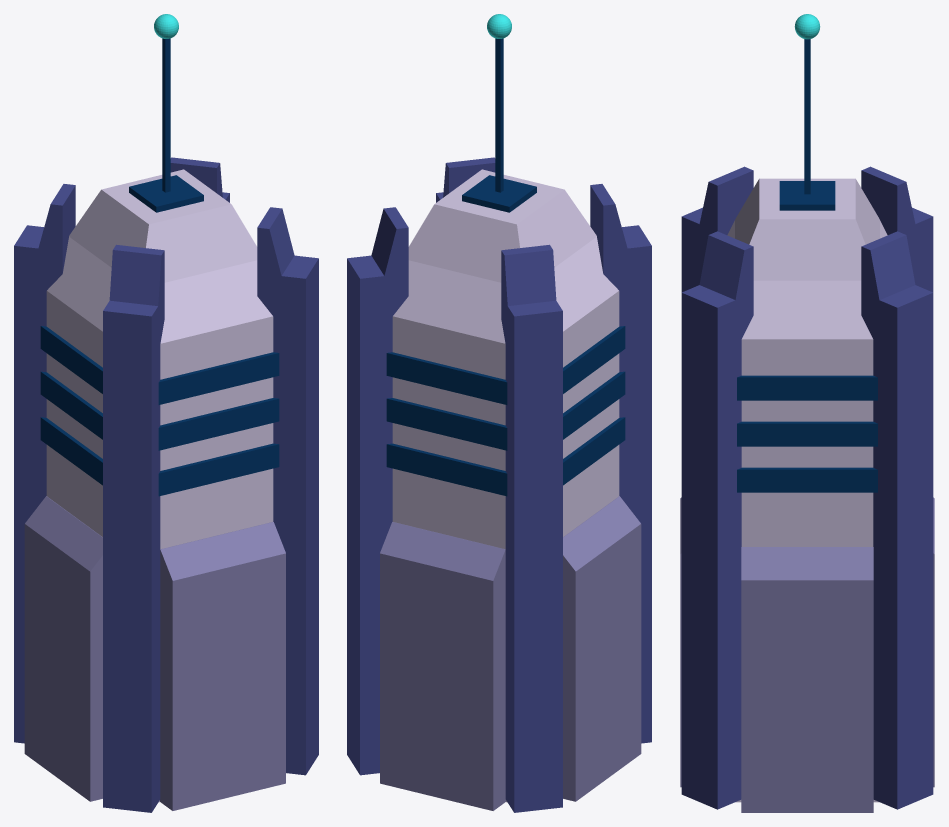
File: Building12.fbx
The picture shows the model from 3 angles, left to right: view 1: azimuth 30°, elevation 25°; view 2: azimuth 150°, elevation 25°; view 3: azimuth 270°, elevation 25°; orthographic projection.
Visible parts, largest first — view 1: Plane, Plane.004, Cube.001, Cube.002, Plane.001, Cube.003, Cube.005, Cube.006, Cube.004, Plane.005, Cube; view 2: Plane, Plane.003, Cube.003, Cube, Plane.001, Cube.001, Cube.005, Cube.006, Cube.004, Plane.005, Cube.002; view 3: Plane, Plane.002, Cube, Cube.002, Cube.001, Cube.003, Cube.005, Cube.006, Cube.004, Plane.005, Plane.004, Plane.003 (+1 smaller).
Boxes of the visible parts, left/top/right/bottom form: Plane: left=46, top=169, right=273, bottom=802; Plane.004: left=160, top=522, right=285, bottom=810; Cube.001: left=103, top=244, right=164, bottom=812; Cube.002: left=257, top=207, right=318, bottom=775; Plane.001: left=24, top=496, right=102, bottom=801; Cube.003: left=14, top=184, right=75, bottom=743; Cube.005: left=40, top=371, right=279, bottom=450; Cube.006: left=40, top=326, right=279, bottom=404; Cube.004: left=40, top=417, right=279, bottom=496; Plane.005: left=129, top=38, right=203, bottom=212; Cube: left=170, top=157, right=229, bottom=202; Plane: left=392, top=169, right=619, bottom=802; Plane.003: left=380, top=522, right=505, bottom=810; Cube.003: left=501, top=244, right=562, bottom=812; Cube: left=347, top=207, right=408, bottom=775; Plane.001: left=563, top=496, right=641, bottom=801; Cube.001: left=590, top=184, right=651, bottom=743; Cube.005: left=386, top=371, right=625, bottom=450; Cube.006: left=386, top=326, right=625, bottom=404; Cube.004: left=386, top=417, right=625, bottom=496; Plane.005: left=462, top=38, right=536, bottom=212; Cube.002: left=436, top=157, right=495, bottom=202; Plane: left=727, top=178, right=887, bottom=802; Plane.002: left=741, top=547, right=873, bottom=812; Cube: left=861, top=231, right=933, bottom=809; Cube.002: left=681, top=231, right=753, bottom=809; Cube.001: left=681, top=166, right=753, bottom=292; Cube.003: left=861, top=166, right=933, bottom=292; Cube.005: left=737, top=421, right=877, bottom=446; Cube.006: left=737, top=375, right=877, bottom=400; Cube.004: left=737, top=467, right=877, bottom=492; Plane.005: left=779, top=39, right=835, bottom=210; Plane.004: left=680, top=497, right=681, bottom=787; Plane.003: left=933, top=497, right=934, bottom=787.
Bounding box in the file's own units: 1000 × 3226 × 1000.
